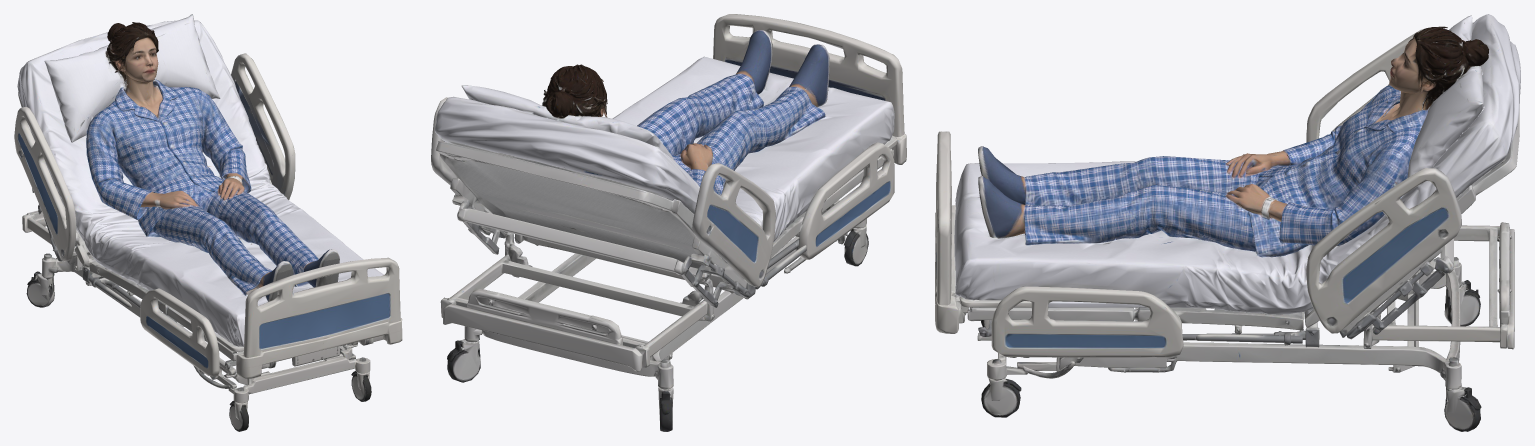
3 renders of one model, left to right at view 1: azimuth 30°, elevation 25°; view 2: azimuth 150°, elevation 25°; view 3: azimuth 270°, elevation 25°, orthographic. The views are drawn at different scales.
Visible parts, largest first — view 1: f1; view 2: f1; view 3: f1.
Part boxes in pixels (bbox=[...]): f1: bbox=[14, 14, 402, 431]; f1: bbox=[431, 14, 906, 431]; f1: bbox=[935, 14, 1520, 431].
Size of the model in its own units: 1.12 by 1.25 by 1.9.
Materials: 1 (1 with a texture image).
